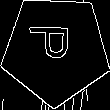P_E: (30, 30, 81, 69)
